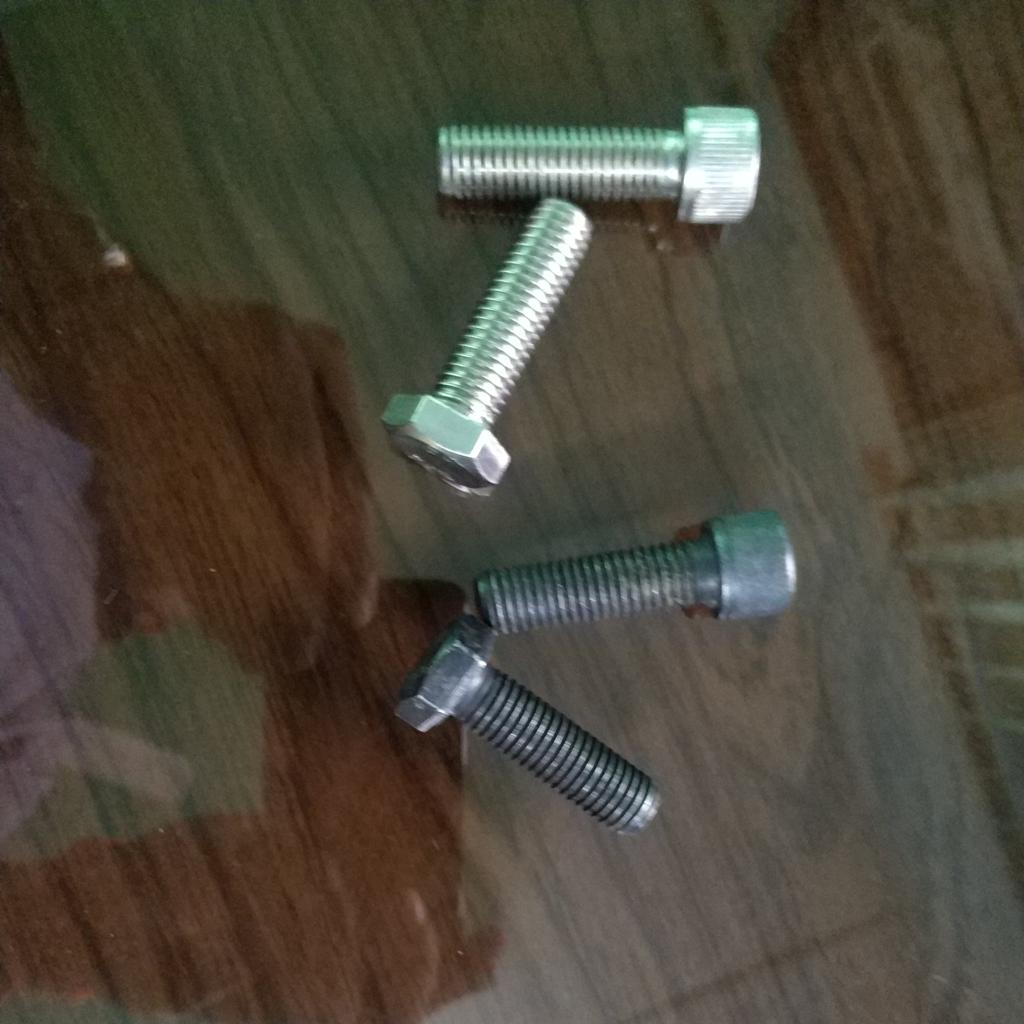screwtype1black: (472, 512, 800, 635)
screwtype1silver: (431, 93, 760, 226)
screwtype2black: (391, 612, 661, 848)
screwtype2silver: (374, 197, 591, 508)
